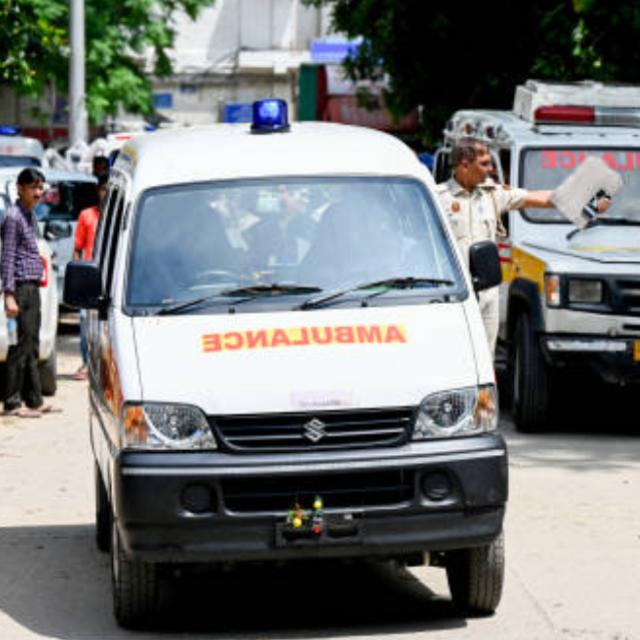emergency_vehicle: (60, 85, 549, 617)
